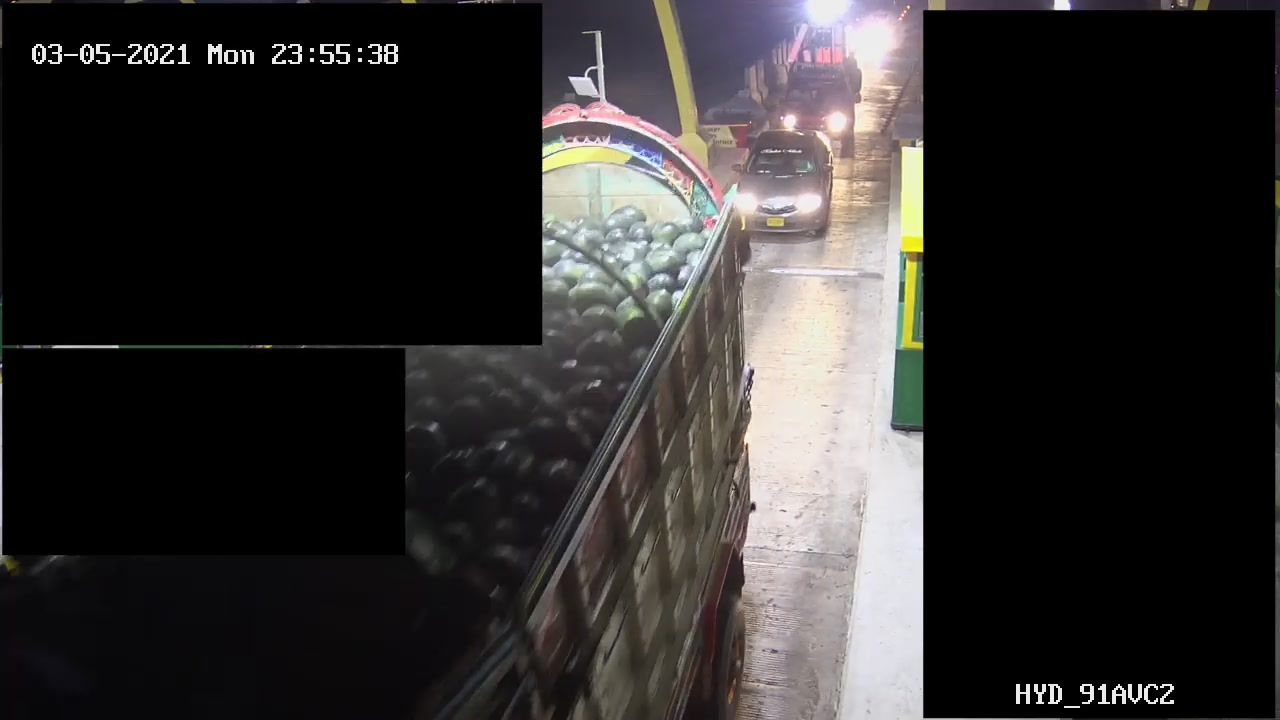F1: (725, 129, 835, 234)
